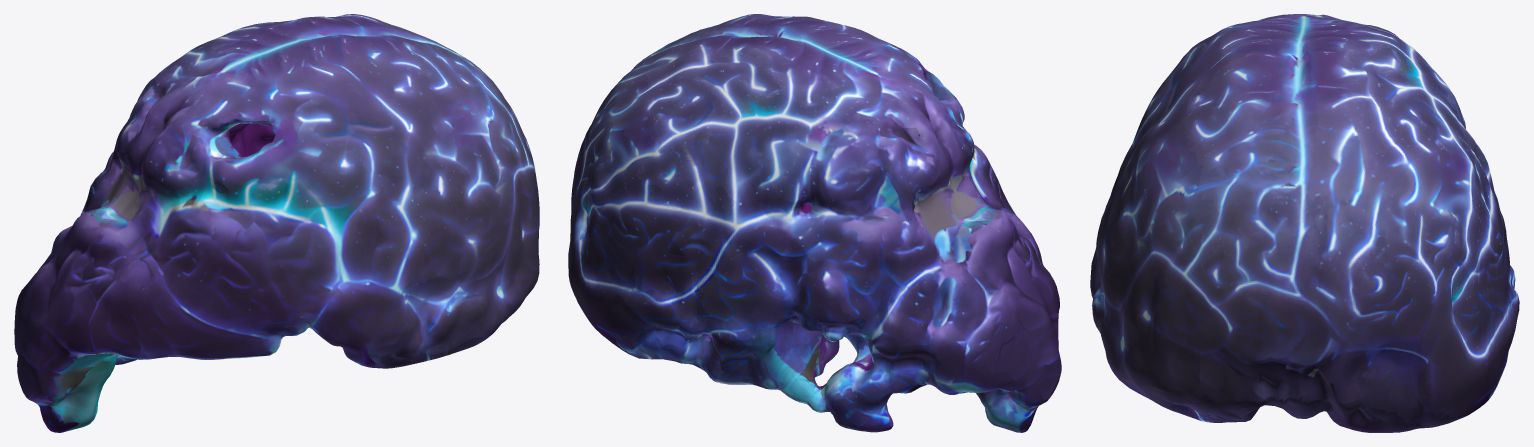
The model's file is highly_detailed_glowing_brain.glb.
The picture shows the model from 3 angles, left to right: view 1: azimuth 30°, elevation 25°; view 2: azimuth 150°, elevation 25°; view 3: azimuth 270°, elevation 25°; orthographic projection. The views are drawn at different scales.
Visible parts, largest first — view 1: model_0; view 2: model_0; view 3: model_0.
Boxes of the visible parts, x1=… form: model_0: x1=14, y1=14, x2=539, y2=432; model_0: x1=568, y1=14, x2=1061, y2=432; model_0: x1=1090, y1=14, x2=1519, y2=432.
Size of the model in its own units: 1 by 0.6925 by 0.7199.
1 material, 1 textured.
